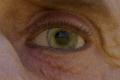eye: (48, 29, 77, 51)
